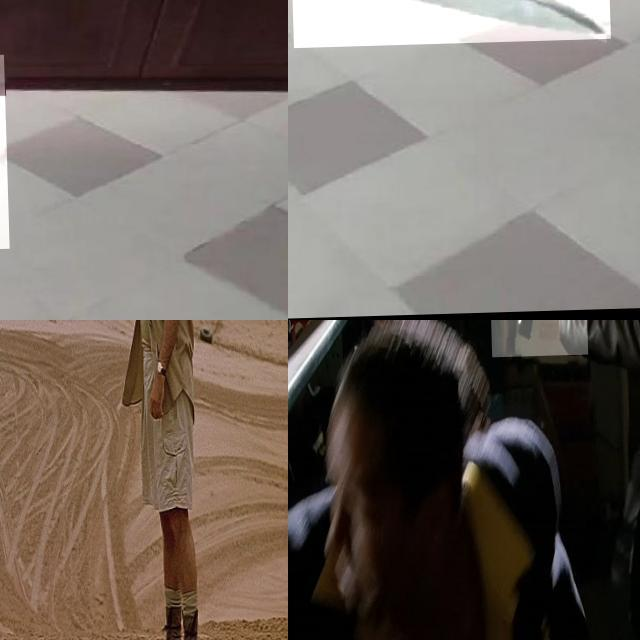-: (0, 57, 109, 256), (288, 0, 608, 60)
gun-knife-thesis - v11 Yolov5 augmented: (484, 320, 585, 435), (0, 320, 57, 464)
